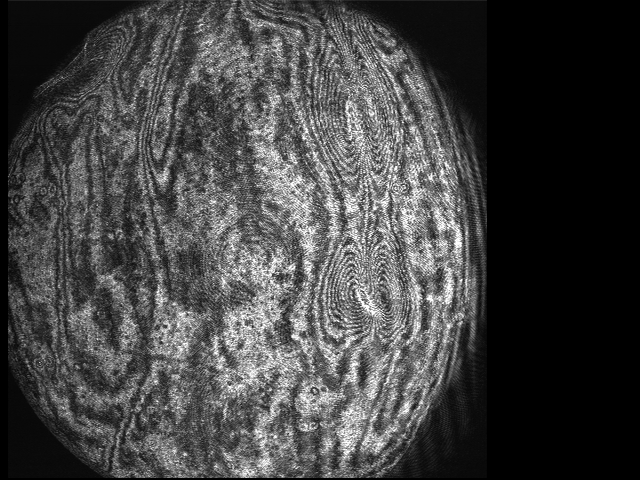plume: (323, 244, 409, 343)
